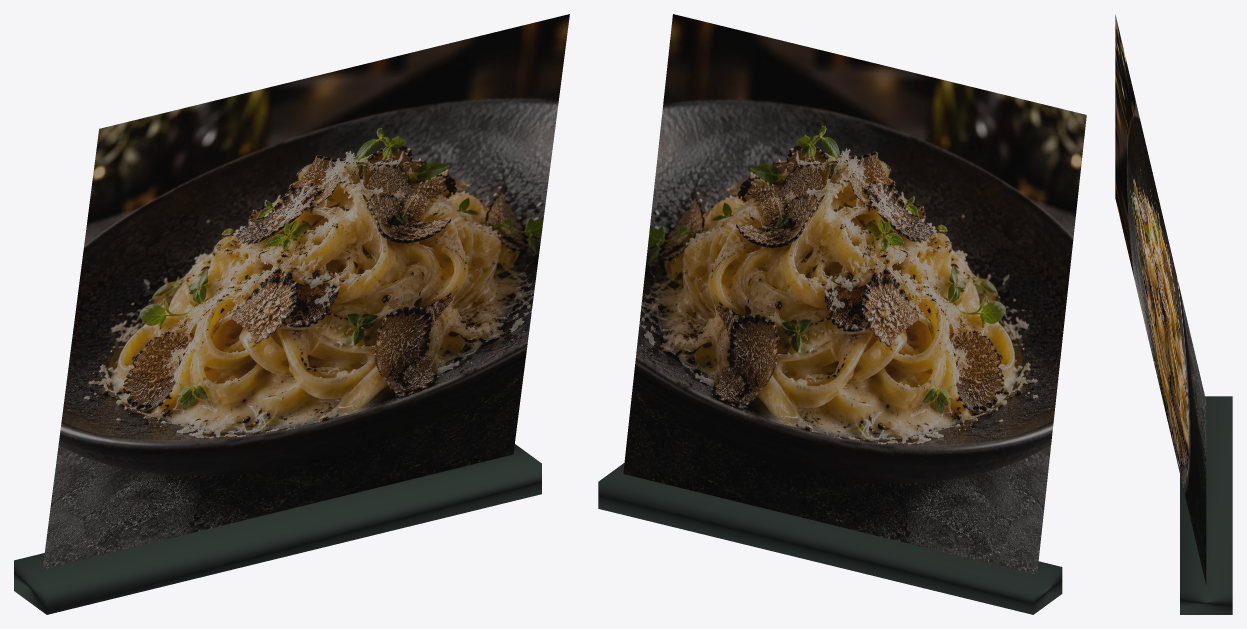
File: pasta.glb
3 renders of one model, left to right at view 1: azimuth 30°, elevation 25°; view 2: azimuth 150°, elevation 25°; view 3: azimuth 270°, elevation 25°, orthographic. The views are drawn at different scales.
Visible parts, largest first — view 1: Pasta photo, Tabletop base; view 2: Pasta photo, Tabletop base; view 3: Pasta photo, Tabletop base.
Part boxes in pixels (left/top/right/bottom): Pasta photo: left=42, top=14, right=569, bottom=569; Tabletop base: left=14, top=444, right=541, bottom=614; Pasta photo: left=623, top=14, right=1086, bottom=574; Tabletop base: left=598, top=463, right=1062, bottom=614; Pasta photo: left=1115, top=14, right=1206, bottom=584; Tabletop base: left=1180, top=396, right=1232, bottom=614.
Bounding box in the file's own units: 0.305 × 0.3017 × 0.0778.
Materials: 2 (1 with a texture image).
